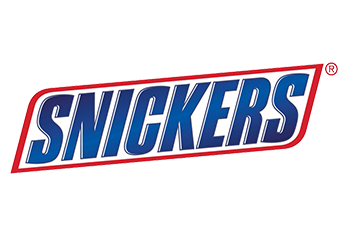snickers: (23, 71, 311, 164)
